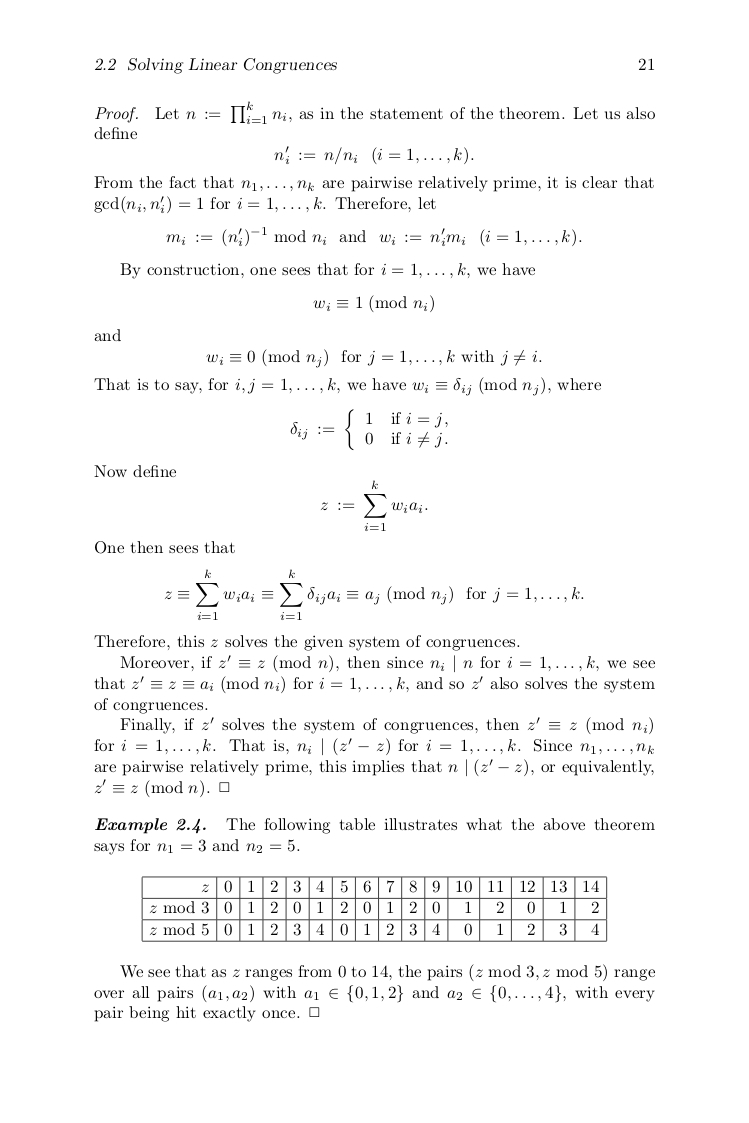Table: (141, 875, 607, 942)
formula: (165, 569, 583, 619), (166, 226, 581, 247), (206, 348, 541, 368), (290, 408, 447, 450), (320, 480, 427, 530), (274, 145, 473, 165), (313, 294, 433, 313)
